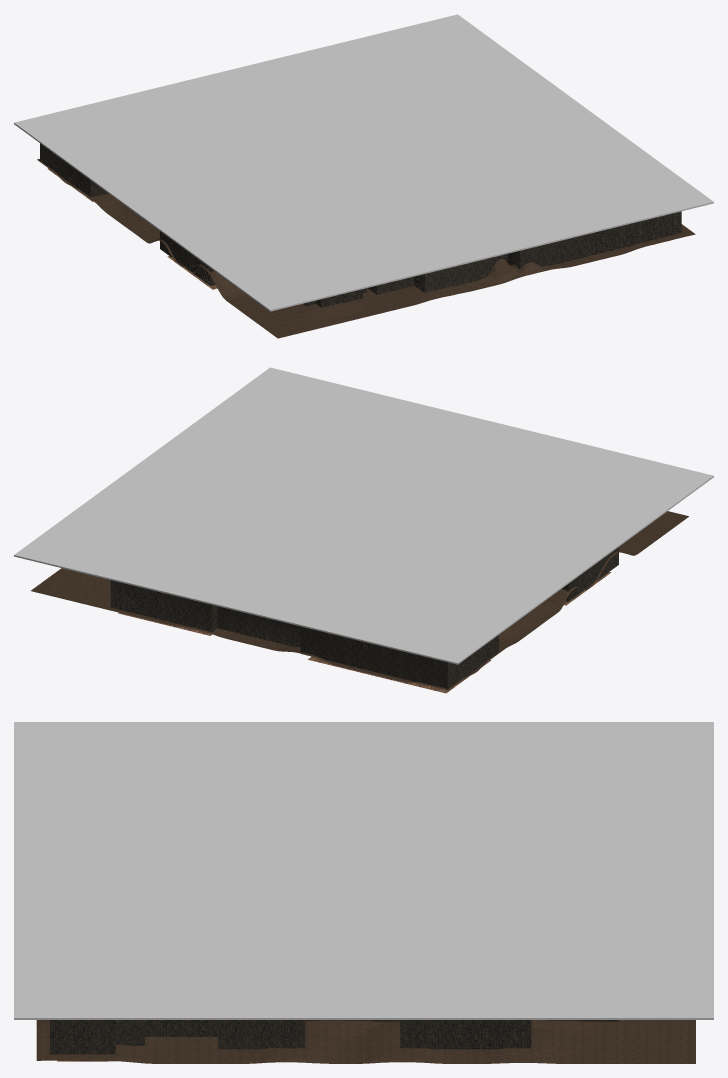
The model's file is newtrymaze.fbx.
3 renders of one model, top to bottom at view 1: azimuth 30°, elevation 25°; view 2: azimuth 150°, elevation 25°; view 3: azimuth 270°, elevation 25°, orthographic. The views are drawn at different scales.
Parts seen in each view (by area): view 1: Ceiling.001, Dirt.001, Walls.001, Walls; view 2: Ceiling.001, Walls.001, Dirt.001, Walls, Floor.000; view 3: Ceiling.001, Dirt.001, Walls.001, Walls.
Boxes of the visible parts, x1,y1,x2,y2 form: Ceiling.001: (14, 14, 713, 311); Dirt.001: (37, 159, 695, 338); Walls.001: (40, 143, 681, 307); Walls: (40, 145, 681, 306); Ceiling.001: (14, 367, 713, 664); Walls.001: (110, 547, 618, 688); Dirt.001: (31, 511, 688, 690); Walls: (111, 548, 618, 688); Floor.000: (118, 572, 611, 693); Ceiling.001: (14, 722, 713, 1019); Dirt.001: (36, 1020, 695, 1063); Walls.001: (50, 1020, 618, 1054); Walls: (50, 1020, 617, 1053).
Size of what is drawn, in the model's own units: 7583 by 712 by 7583.
